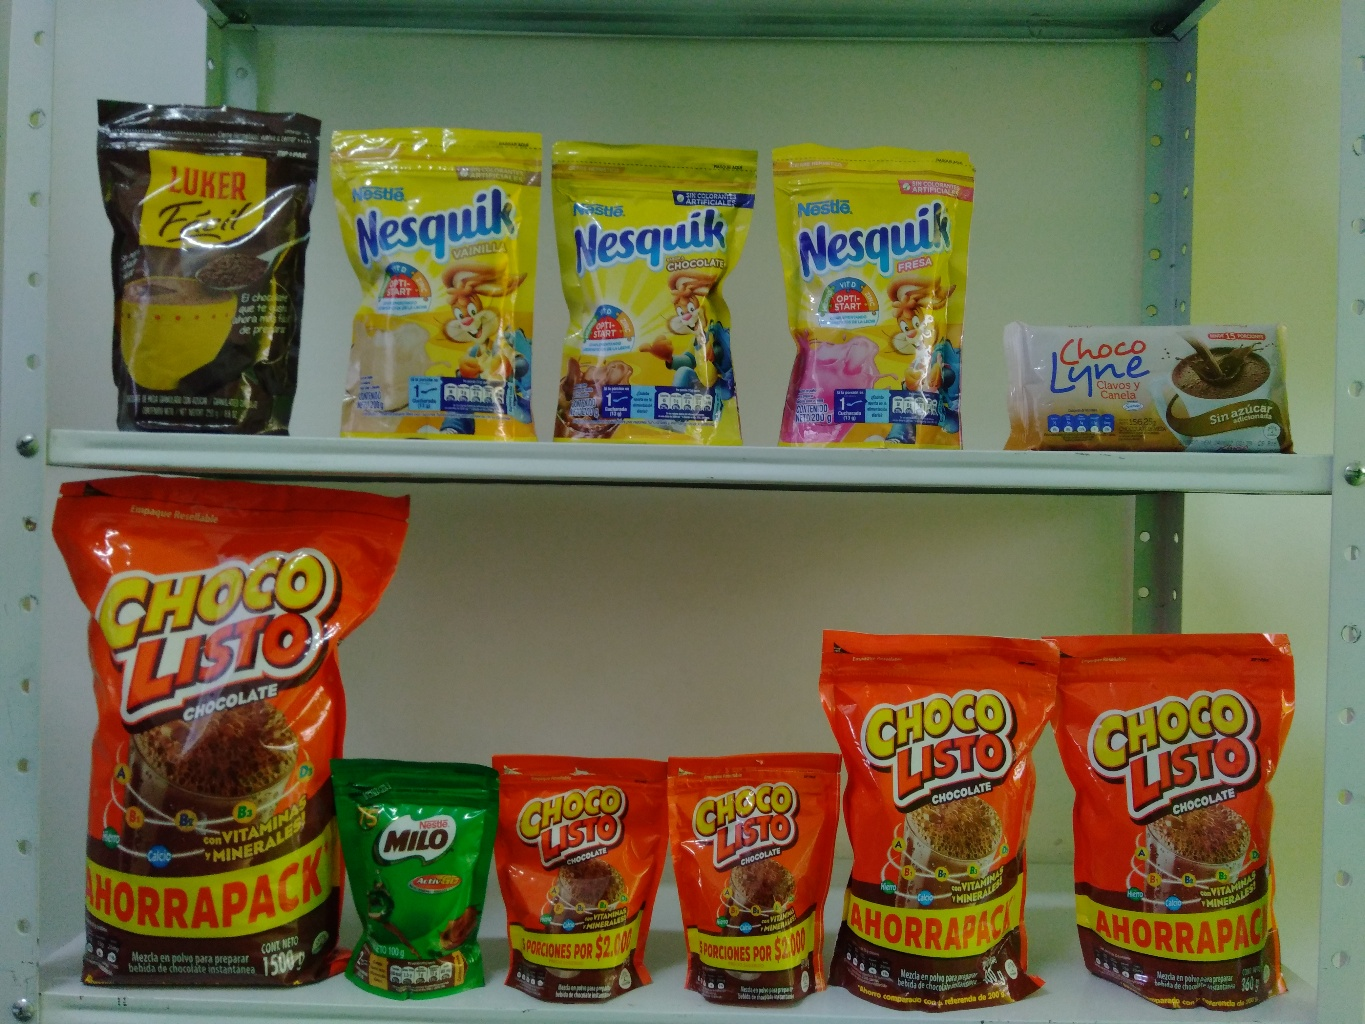COL0170103DYP1,500: (42, 472, 408, 1004)
COL0170103DYP10000: (479, 743, 678, 1013)
COL0170103DYP36000: (1060, 626, 1308, 1016)
COL0170103DYP40000: (809, 627, 1081, 1000)
COL0170203DYP10000: (332, 759, 493, 1000)
COL0170303DYP20000: (553, 132, 764, 450)
COL0170305DYP20000: (772, 140, 977, 444)
COL0170306DYP20000: (331, 128, 548, 463)
